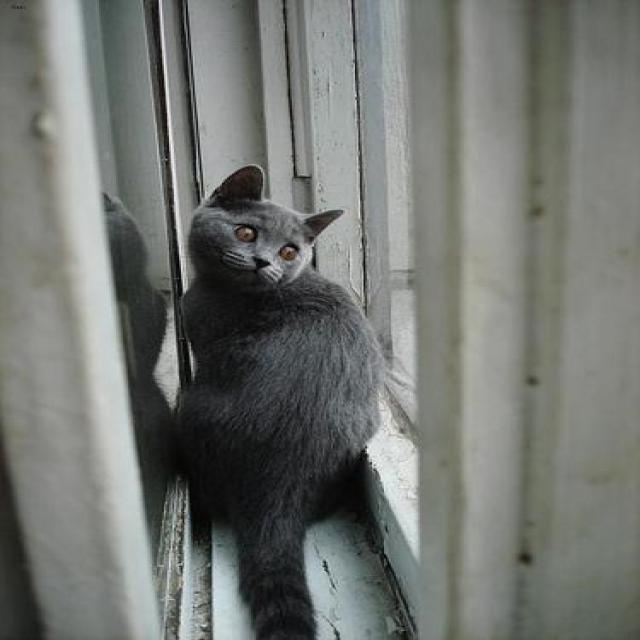cat: (175, 162, 377, 640)
